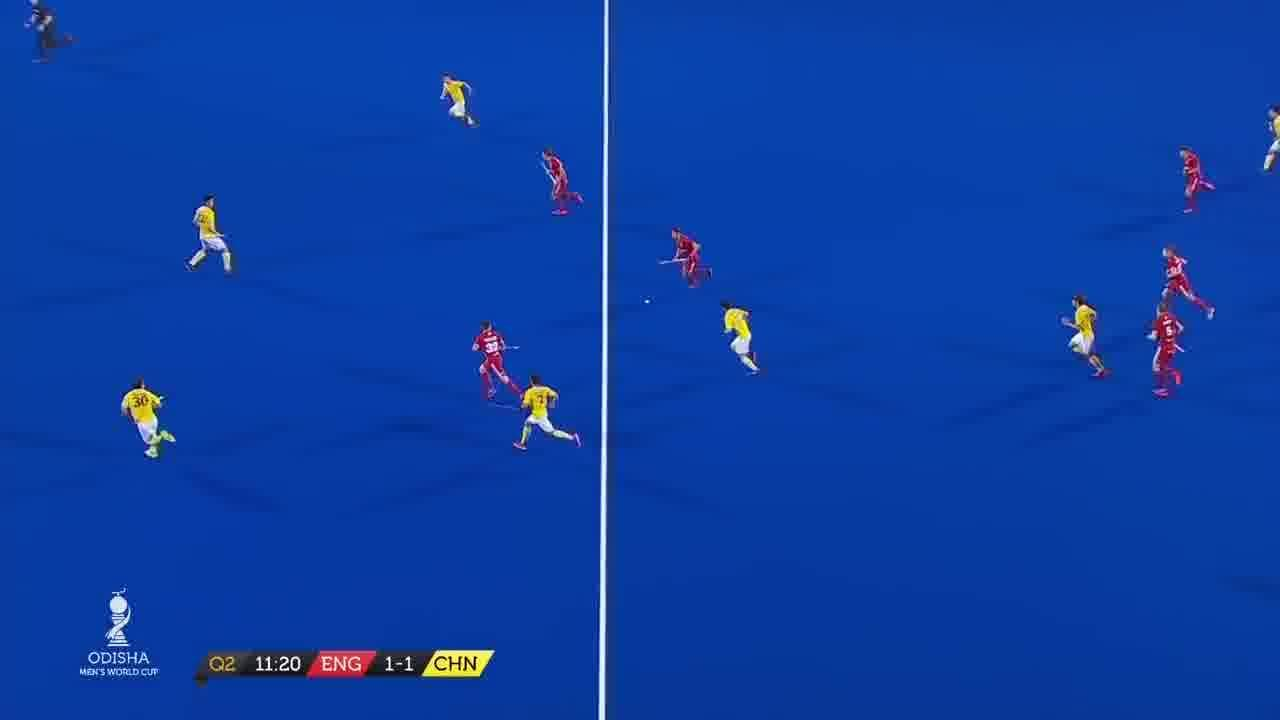ball: (638, 290, 656, 313)
